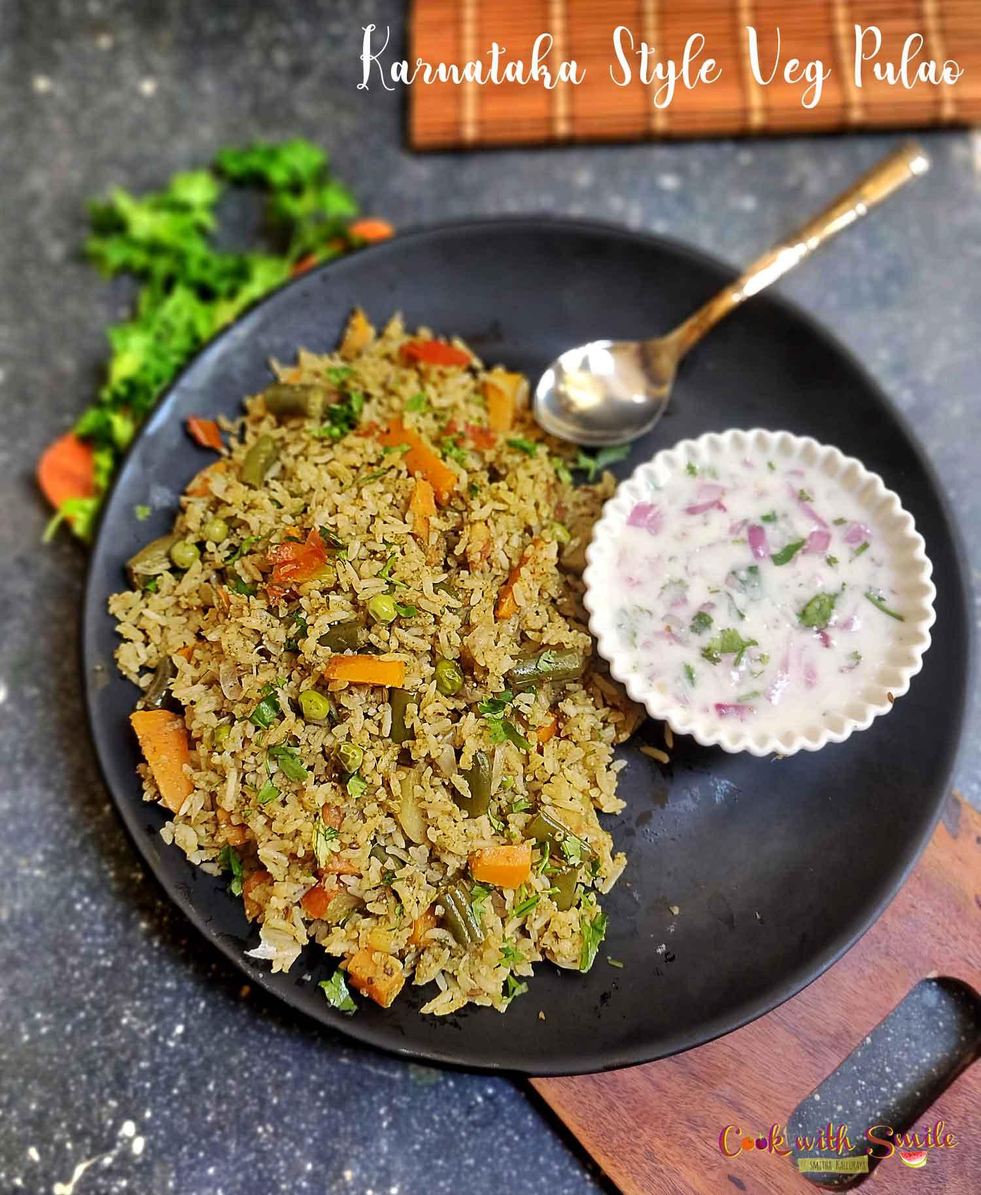veg-pulao: (109, 278, 601, 1035)
yogurt: (617, 464, 908, 743)
